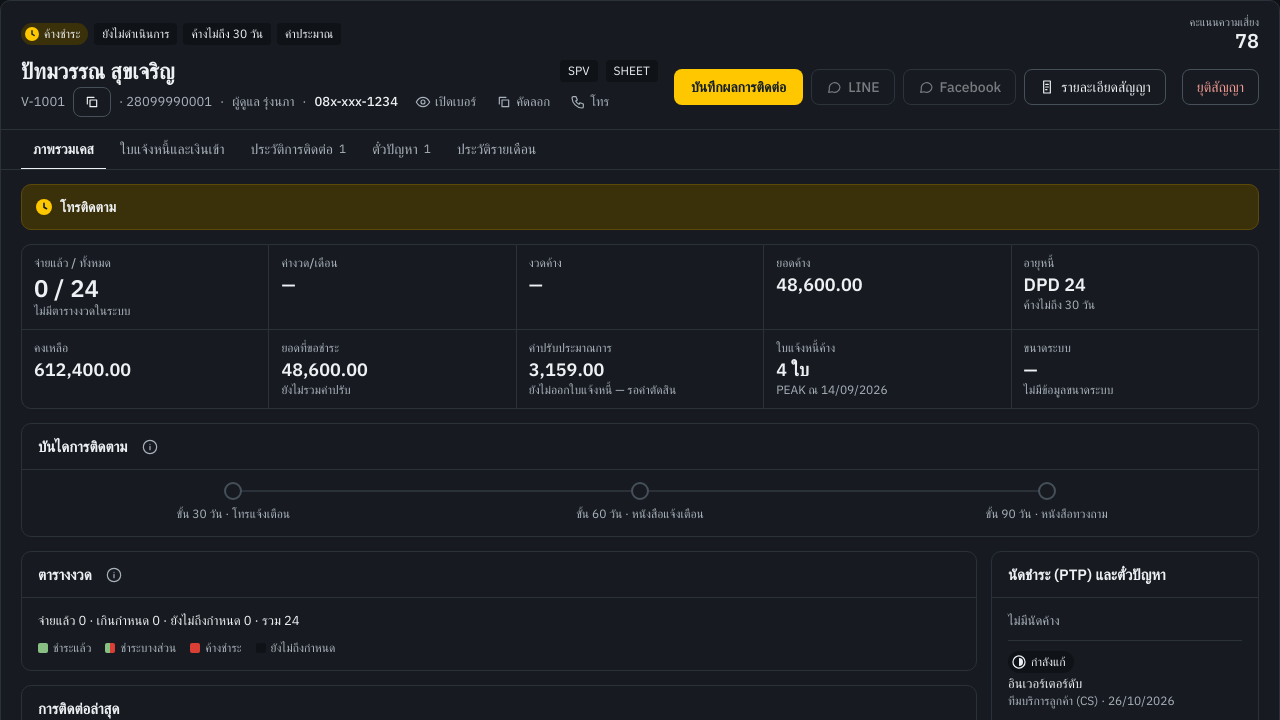
Test case: the case header and tabs (design D) › says the history in words: channel, allowance, event kinds and ticket teams
Click the tab "ประวัติการติดต่อ 1": {"x": 298, "y": 150} [238,130,358,170]
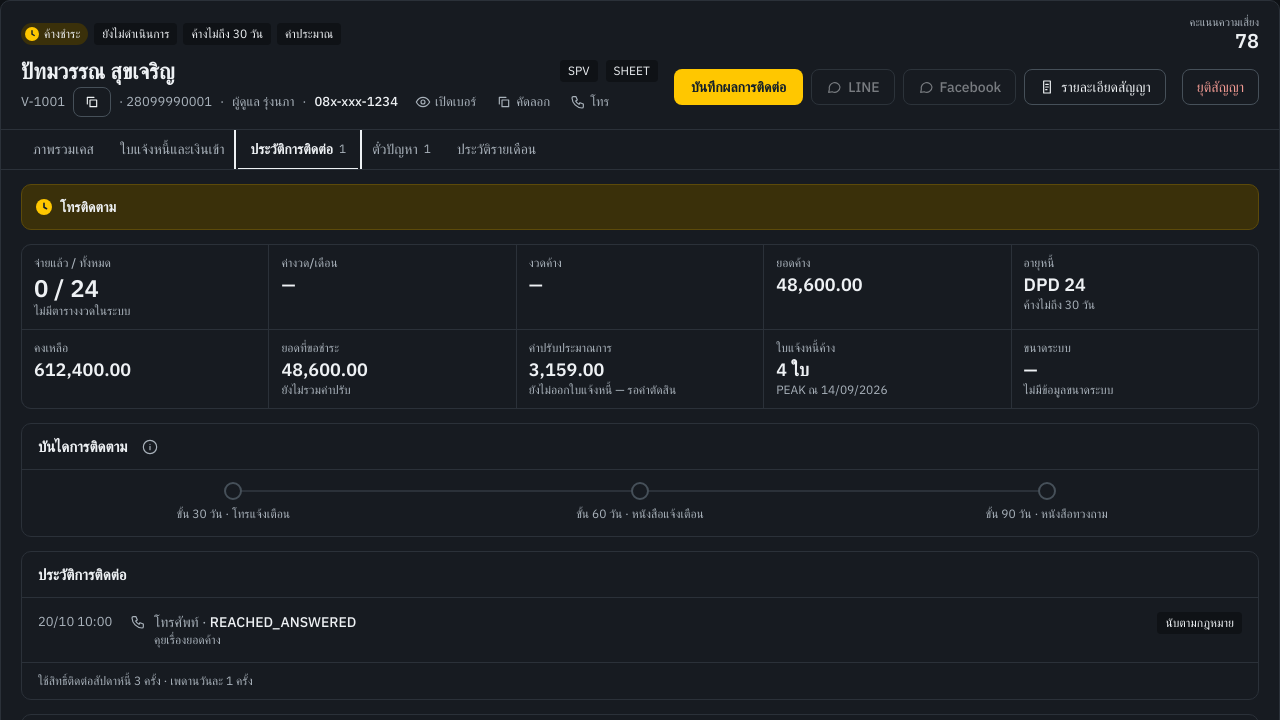
expect the text "โทรศัพท์ ·" is shown: met, box [154,613,210,631]
expect the text "ใช้สิทธิ์ติดต่อสัปดาห์นี้ 3 ครั้ง · เพดานวันละ 1 ครั้ง" is shown: met, box [22,662,1258,699]
Click the tab "ตั๋วปัญหา 1": {"x": 402, "y": 150} [360,130,443,170]
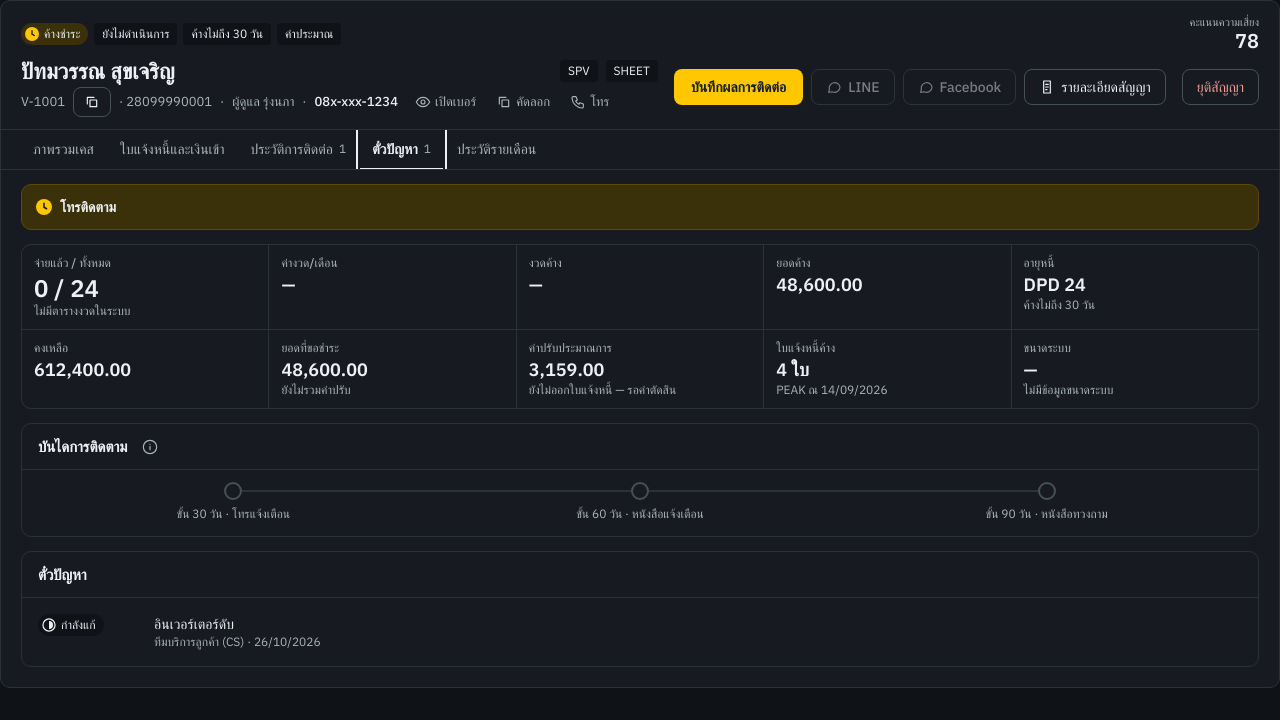
expect the text "กำลังแก้" is shown: met, box [38,614,104,636]
expect the text "ทีมบริการลูกค้า (CS) · 26/10/2026" is shown: met, box [154,634,321,649]
